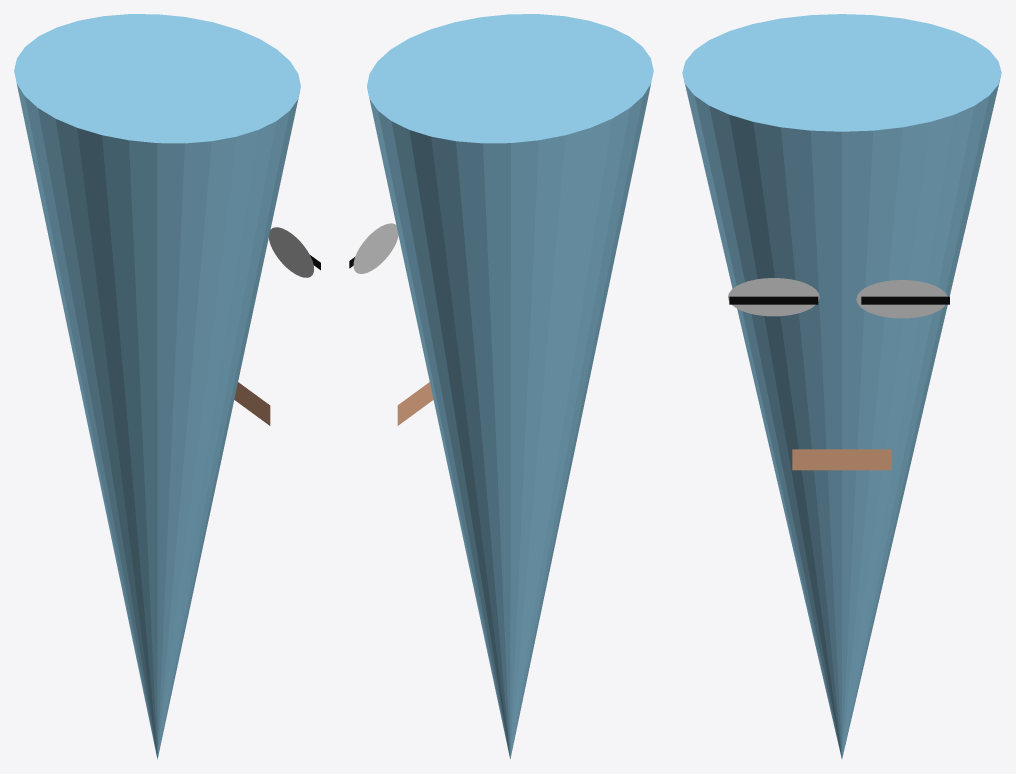
The model's file is turara.fbx.
3 renders of one model, left to right at view 1: azimuth 30°, elevation 25°; view 2: azimuth 150°, elevation 25°; view 3: azimuth 270°, elevation 25°, orthographic.
Parts seen in each view (by area): view 1: turara, 円, 平面; view 2: turara, 円.001, 平面; view 3: turara, 円.001, 円, 平面, kurome, kurome.001.
Boxes of the visible parts, x1,y1,x2,y2 form: turara: (14, 14, 300, 759); 円: (269, 227, 313, 277); 平面: (234, 382, 270, 425); turara: (367, 14, 653, 758); 円.001: (353, 223, 398, 273); 平面: (397, 382, 433, 425); turara: (682, 14, 1001, 758); 円.001: (856, 280, 947, 318); 円: (728, 278, 819, 316); 平面: (792, 449, 891, 470); kurome: (729, 296, 818, 304); kurome.001: (861, 296, 949, 304).
Bounding box in the file's own units: 3.18 × 2.78 × 7.55.
